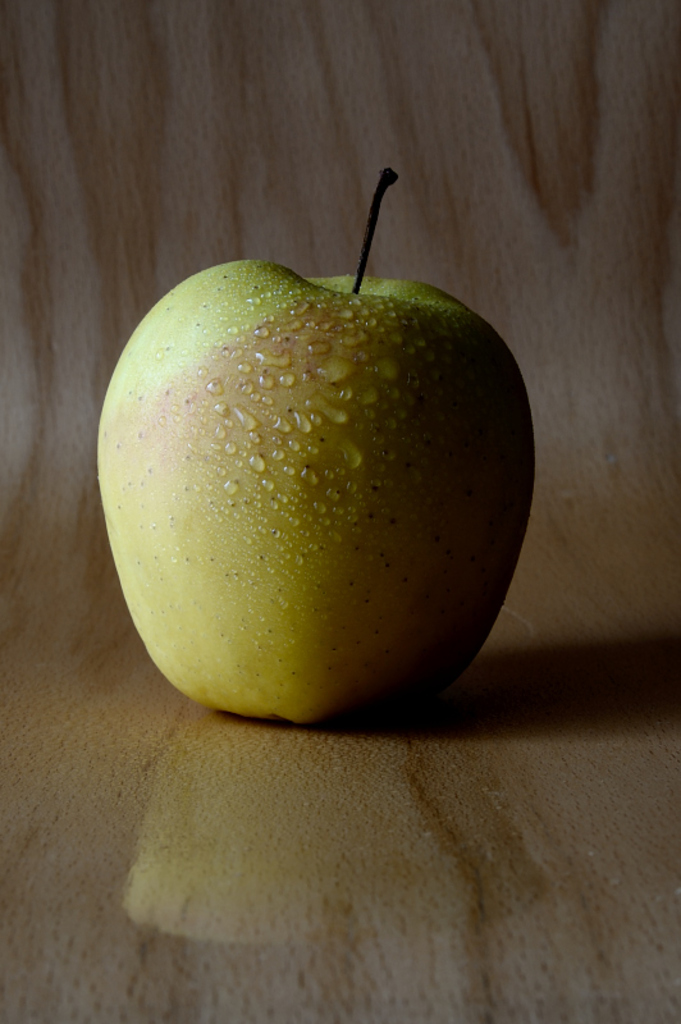Apple: (80, 216, 531, 729)
